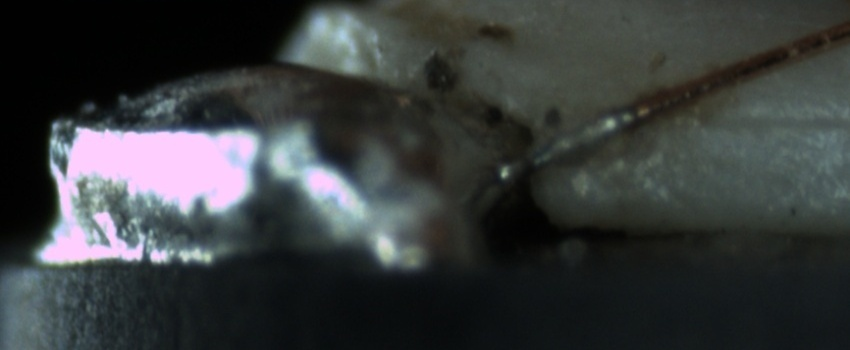DL: (688, 86, 848, 150)
TS: (503, 108, 635, 178)
TTCW: (500, 90, 680, 181)
